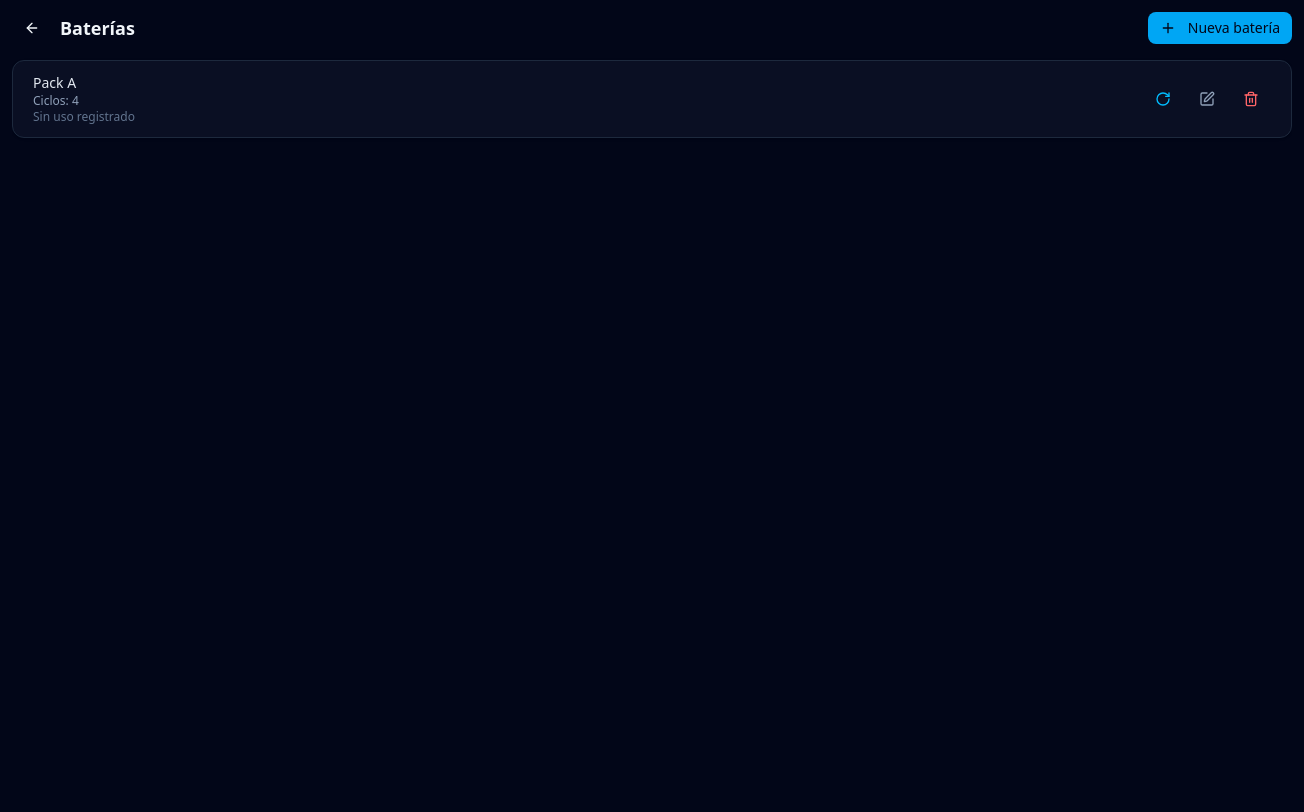
Scenario: BatteryPage › deletes a battery after inline confirmation
Expected: the text "Pack A" is shown, [33,73,76,92]
Click the button named "Eliminar batería" at {"x": 1251, "y": 99}, box [1231,83,1271,115]
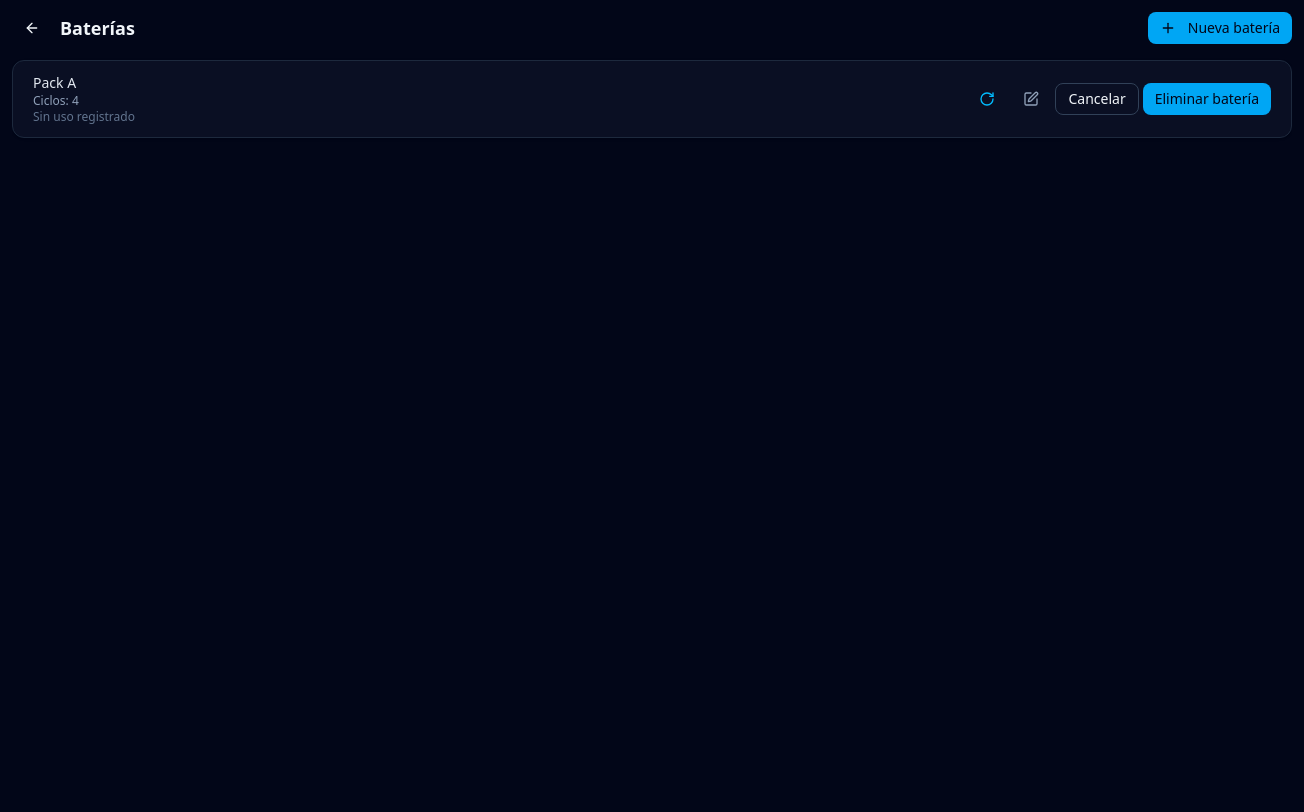
Click the button "Eliminar batería" at {"x": 1207, "y": 99}, box [1143,83,1271,115]
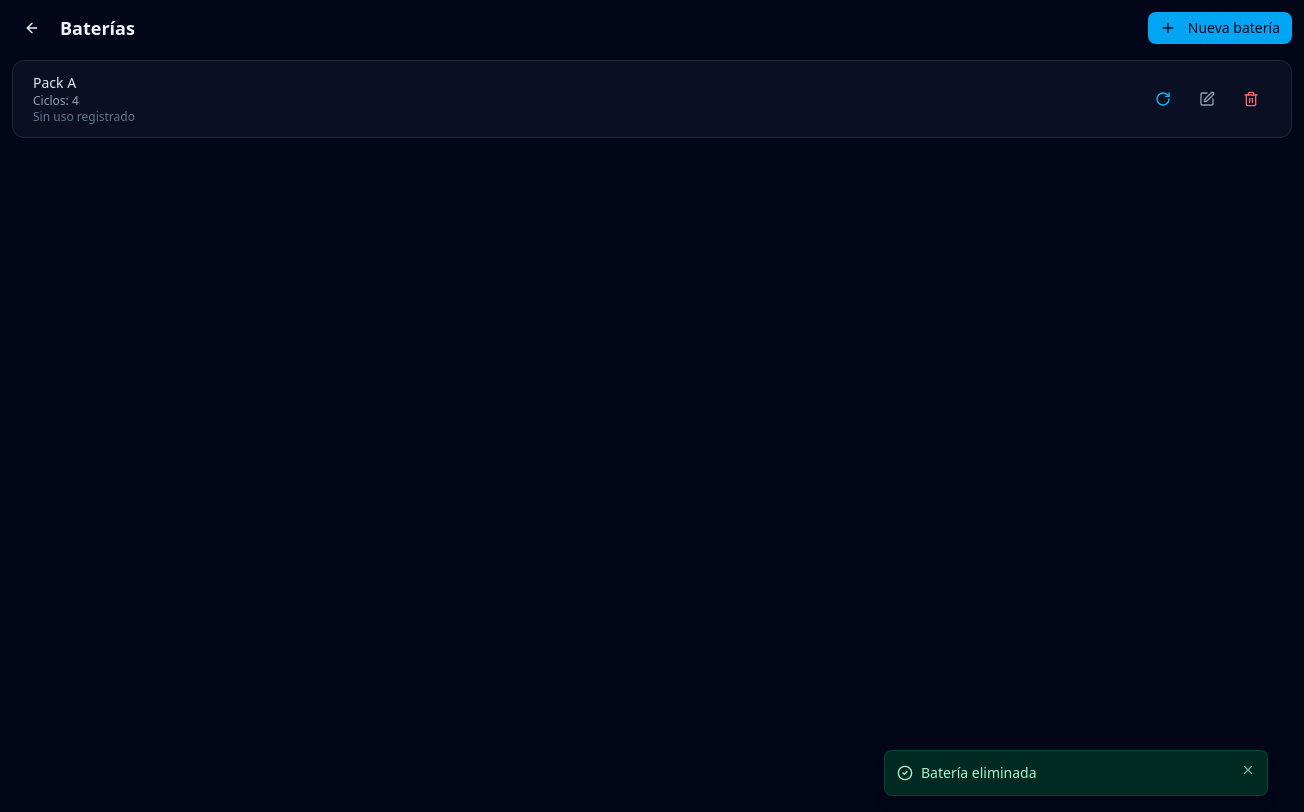
Result: the text "Batería eliminada" is shown at [921,763,1037,782]
